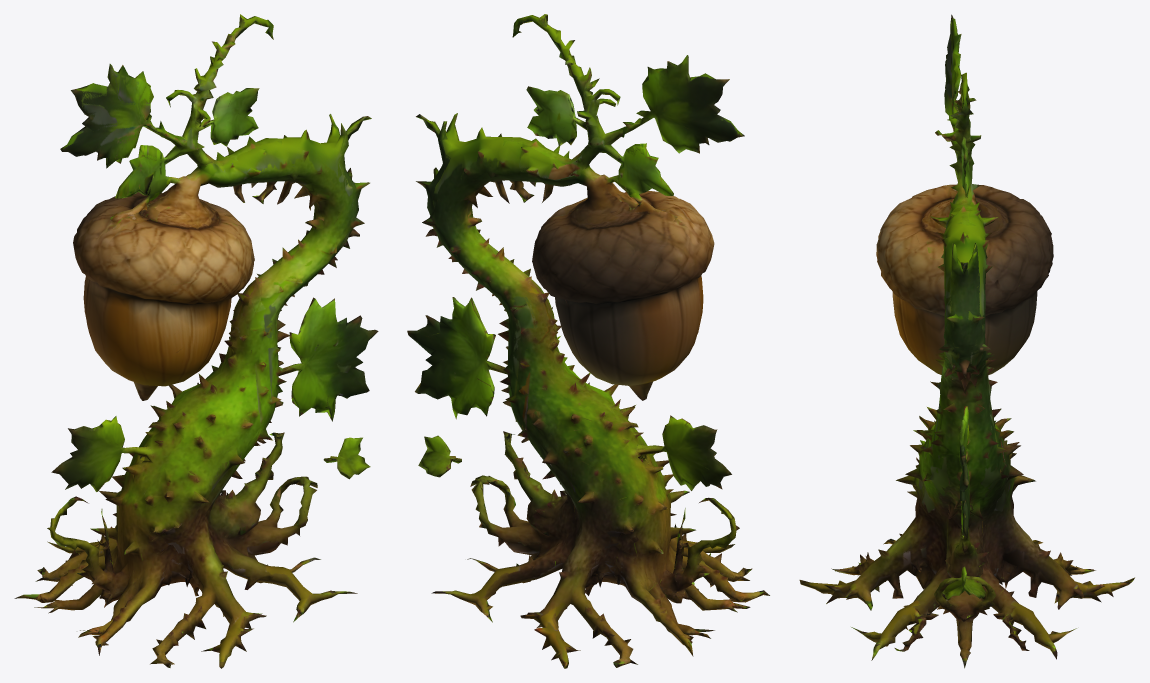
Rendered from acorn of life.glb.
3 renders of one model, left to right at view 1: azimuth 30°, elevation 25°; view 2: azimuth 150°, elevation 25°; view 3: azimuth 270°, elevation 25°, orthographic.
Size of the model in its own units: 1.15 by 1.9 by 1.02.
Materials: 1 (1 with a texture image).
